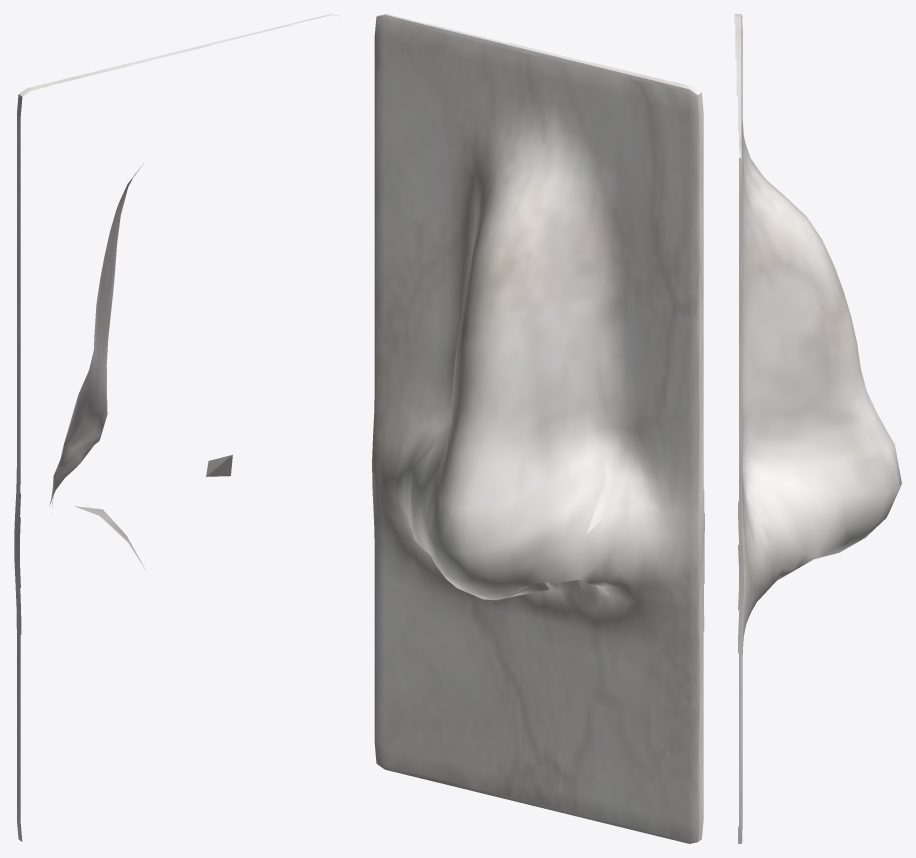
File: sculpture-resized.gltf
The picture shows the model from 3 angles, left to right: view 1: azimuth 30°, elevation 25°; view 2: azimuth 150°, elevation 25°; view 3: azimuth 270°, elevation 25°; orthographic projection. The views are drawn at different scales.
Parts seen in each view (by area): view 1: Default; view 2: Default; view 3: Default.
Part boxes in pixels (<box>): Default: <box>14,14,339,841</box>; Default: <box>372,14,704,843</box>; Default: <box>734,14,901,843</box>.
Bounding box in the file's own units: 2.02 × 4.44 × 0.9809.
Materials: 1 (1 with a texture image).
